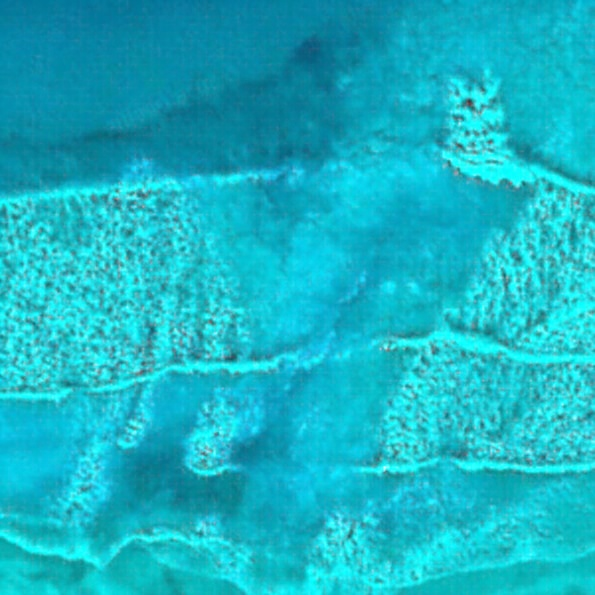rip_current: (160, 116, 475, 486)
